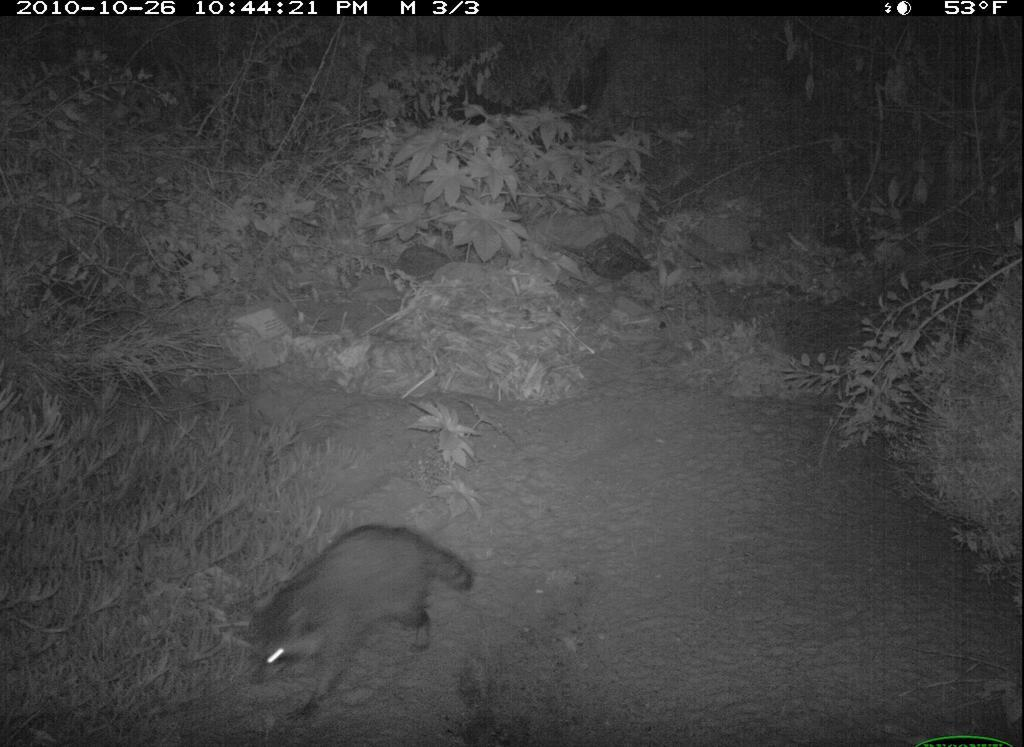raccoon: (254, 510, 478, 715)
